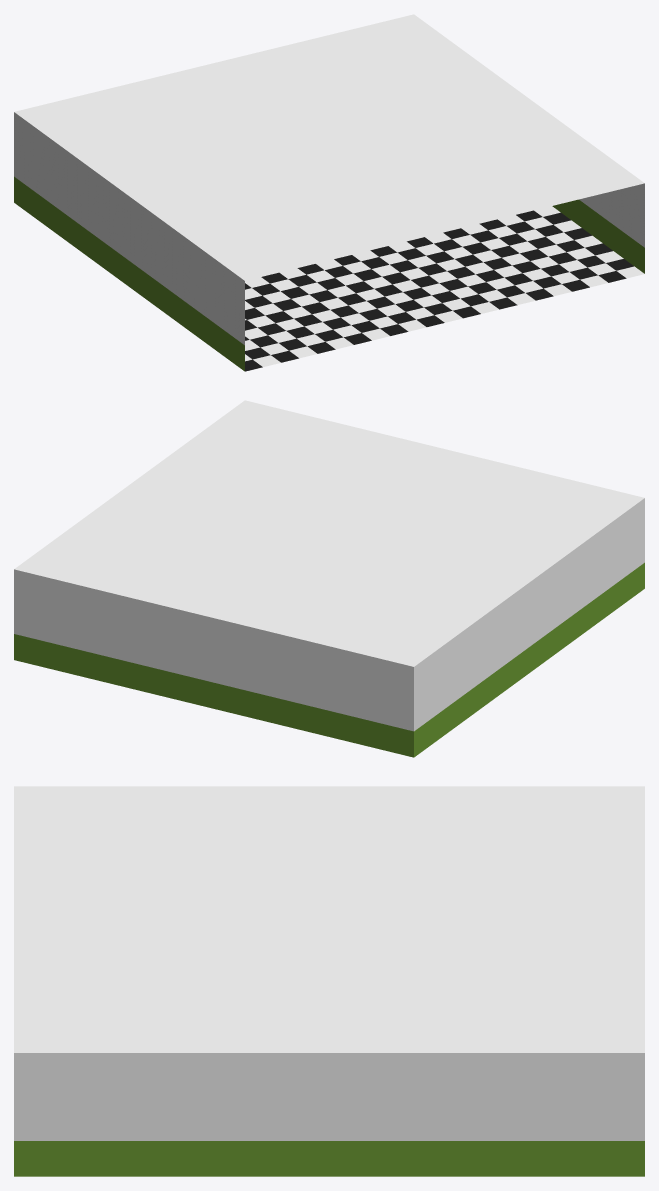
Rendered from SM_background_01.fbx.
3 views of the same model, one above another, from view 1: azimuth 30°, elevation 25°; view 2: azimuth 150°, elevation 25°; view 3: azimuth 270°, elevation 25° (orthographic). The views are drawn at different scales.
Visible parts, largest first — view 1: SM_background_01; view 2: SM_background_01; view 3: SM_background_01.
Boxes of the visible parts, x1,y1,x2,y2 form: SM_background_01: (14, 14, 644, 371); SM_background_01: (14, 400, 644, 757); SM_background_01: (14, 786, 644, 1176).
Bounding box in the file's own units: 2800 × 607 × 2800.
